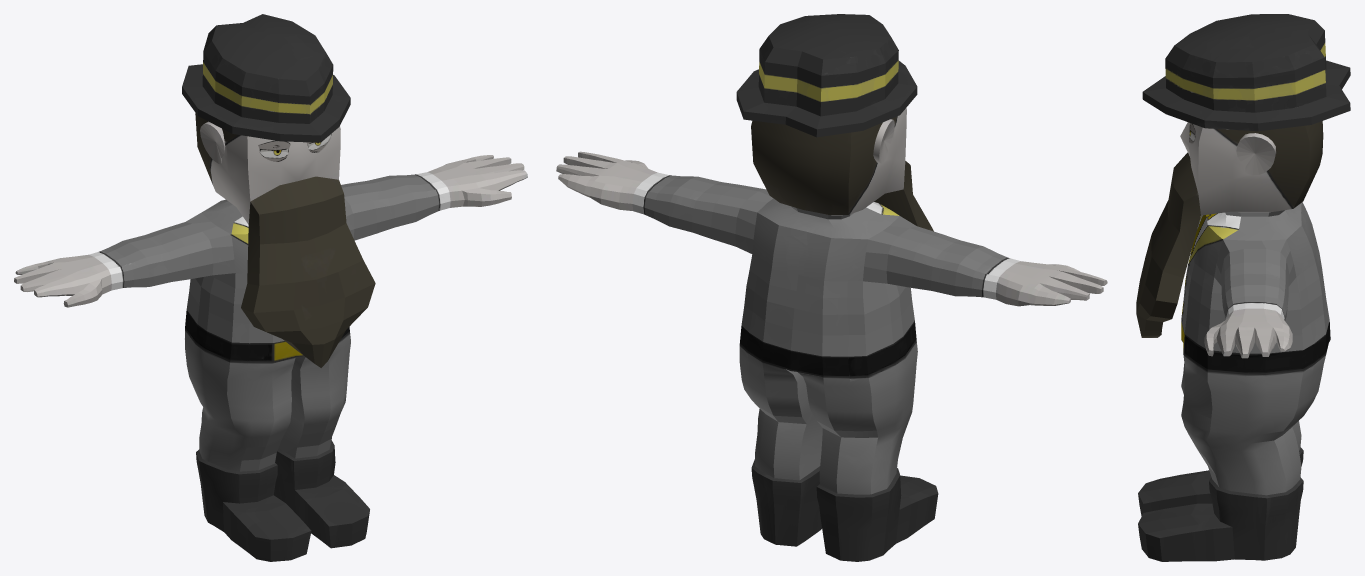
File: Droran.fbx
3 views of the same model, side by side, from view 1: azimuth 30°, elevation 25°; view 2: azimuth 150°, elevation 25°; view 3: azimuth 270°, elevation 25° (orthographic). The views are drawn at different scales.
Visible parts, largest first — view 1: Droran; view 2: Droran; view 3: Droran.
Part boxes in pixels (box(x1,y1,x2,y2)): Droran: box(14, 14, 527, 561); Droran: box(556, 14, 1107, 561); Droran: box(1136, 14, 1350, 561).
Bounding box in the file's own units: 3.66 × 3.35 × 1.28.
